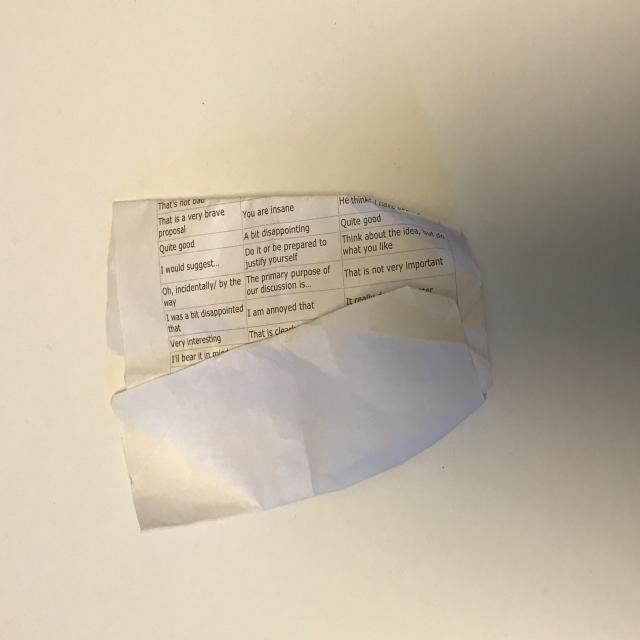paper: (85, 182, 512, 538)
